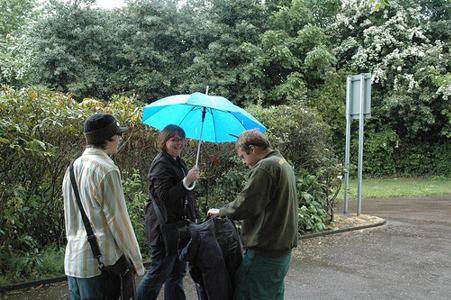person: (137, 123, 198, 299)
